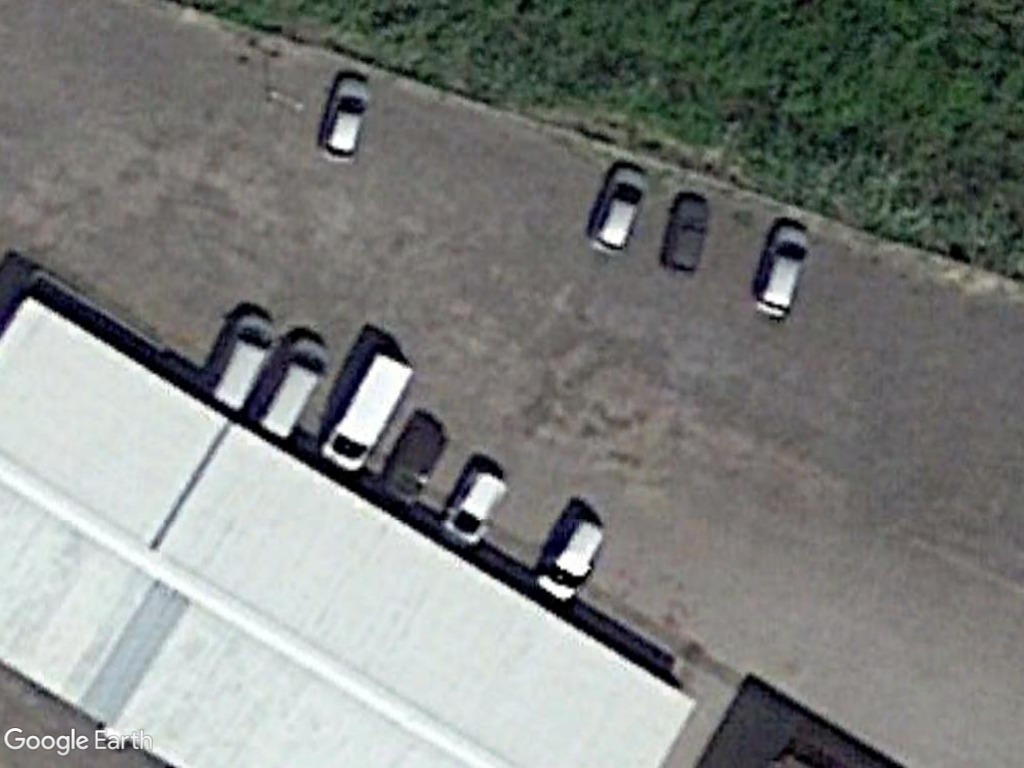car: (533, 514, 610, 606), (748, 219, 813, 321), (442, 466, 511, 549), (589, 162, 649, 255), (318, 71, 373, 165), (662, 191, 715, 279)
van: (319, 345, 421, 473), (252, 328, 333, 443), (209, 308, 278, 416)
